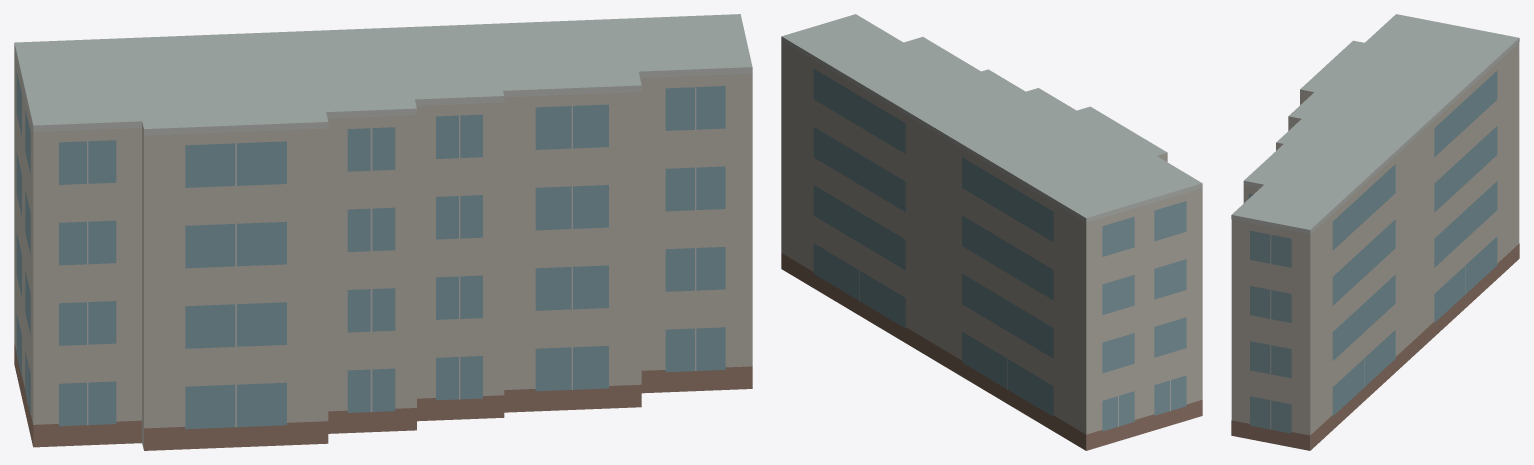
The model's file is survey-upis-32799403.glb.
3 renders of one model, left to right at view 1: azimuth 30°, elevation 25°; view 2: azimuth 150°, elevation 25°; view 3: azimuth 270°, elevation 25°, orthographic. The views are drawn at different scales.
Parts seen in each view (by area): view 1: survey-upis-32799403.tmp; view 2: survey-upis-32799403.tmp; view 3: survey-upis-32799403.tmp.
Boxes of the visible parts, x1,y1,x2,y2 form: survey-upis-32799403.tmp: [14, 14, 752, 450]; survey-upis-32799403.tmp: [781, 14, 1202, 450]; survey-upis-32799403.tmp: [1231, 14, 1519, 450].
Bounding box in the file's own units: 25.49 × 12.15 × 14.37.
